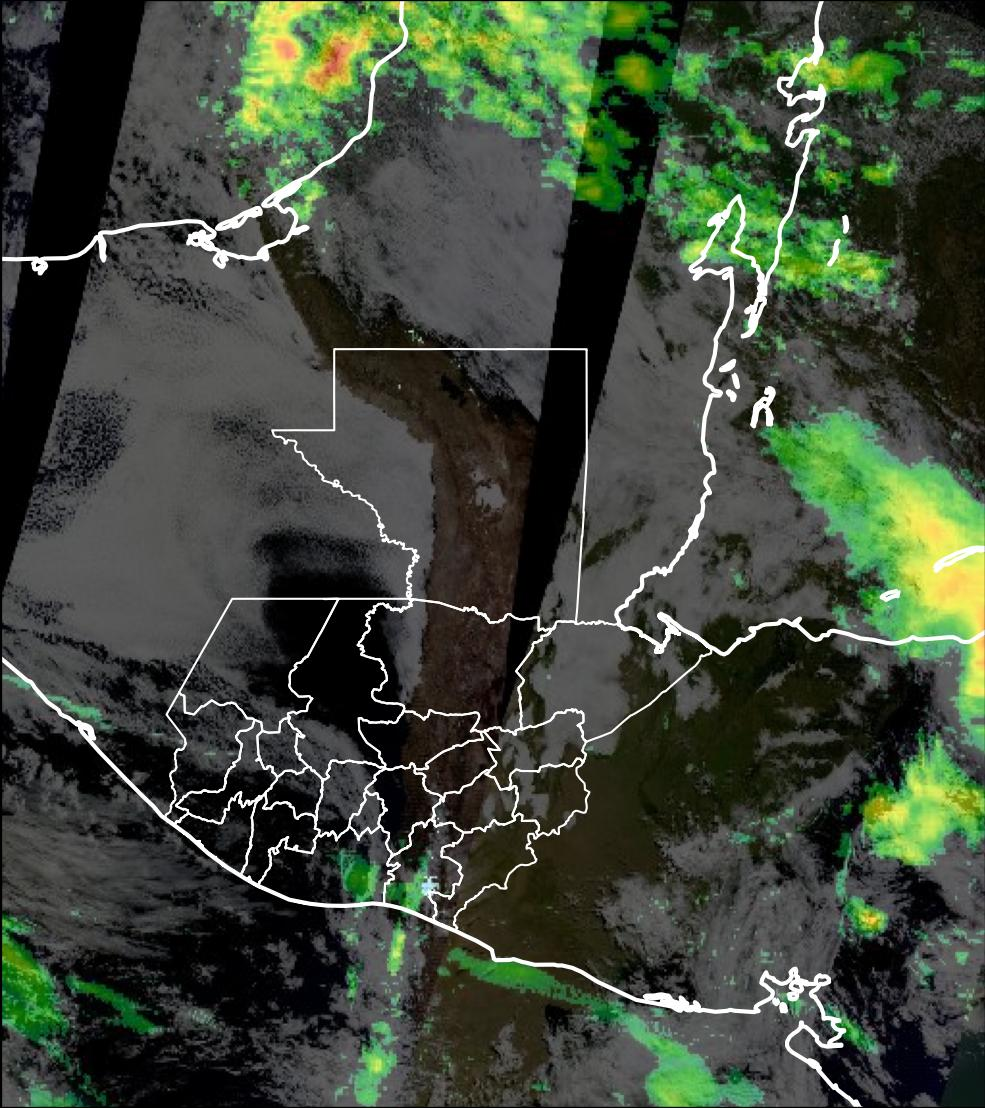precipitacion: (309, 33, 362, 97)
